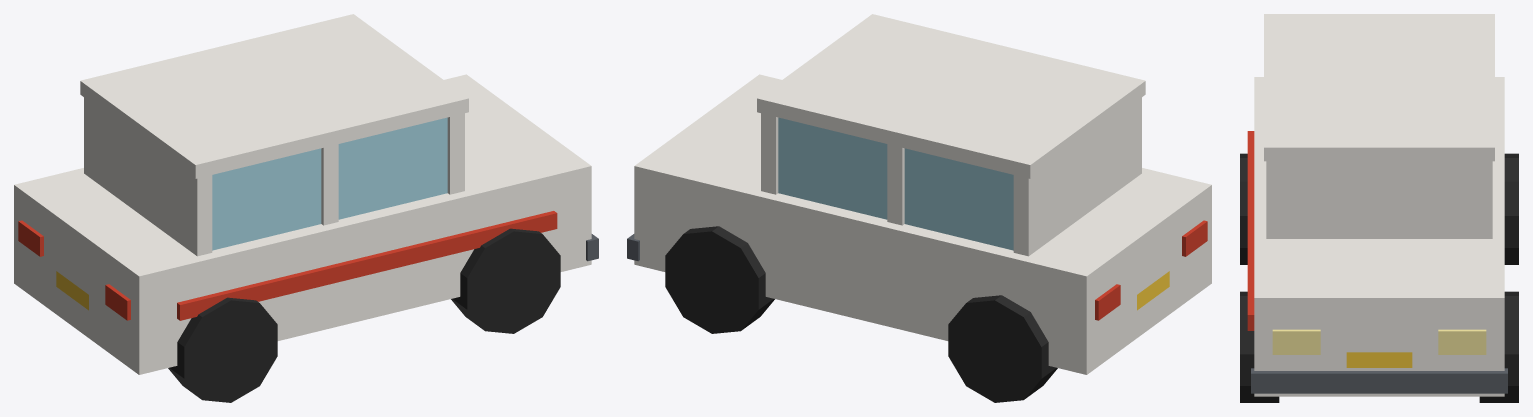
Rendered from car.glb.
The picture shows the model from 3 angles, left to right: view 1: azimuth 30°, elevation 25°; view 2: azimuth 150°, elevation 25°; view 3: azimuth 270°, elevation 25°; orthographic projection.
Parts seen in each view (by area): view 1: car; view 2: car; view 3: car.
Boxes of the visible parts, x1=… form: car: x1=14, y1=14, x2=598, y2=402; car: x1=627, y1=14, x2=1211, y2=402; car: x1=1240, y1=14, x2=1518, y2=402.
Size of the model in its own units: 2.45 by 1.19 by 1.28.
1 material, 1 textured.
